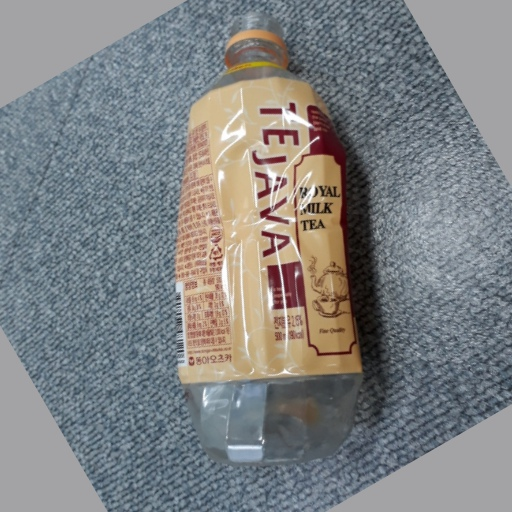Plastic_0: (180, 12, 363, 466)
